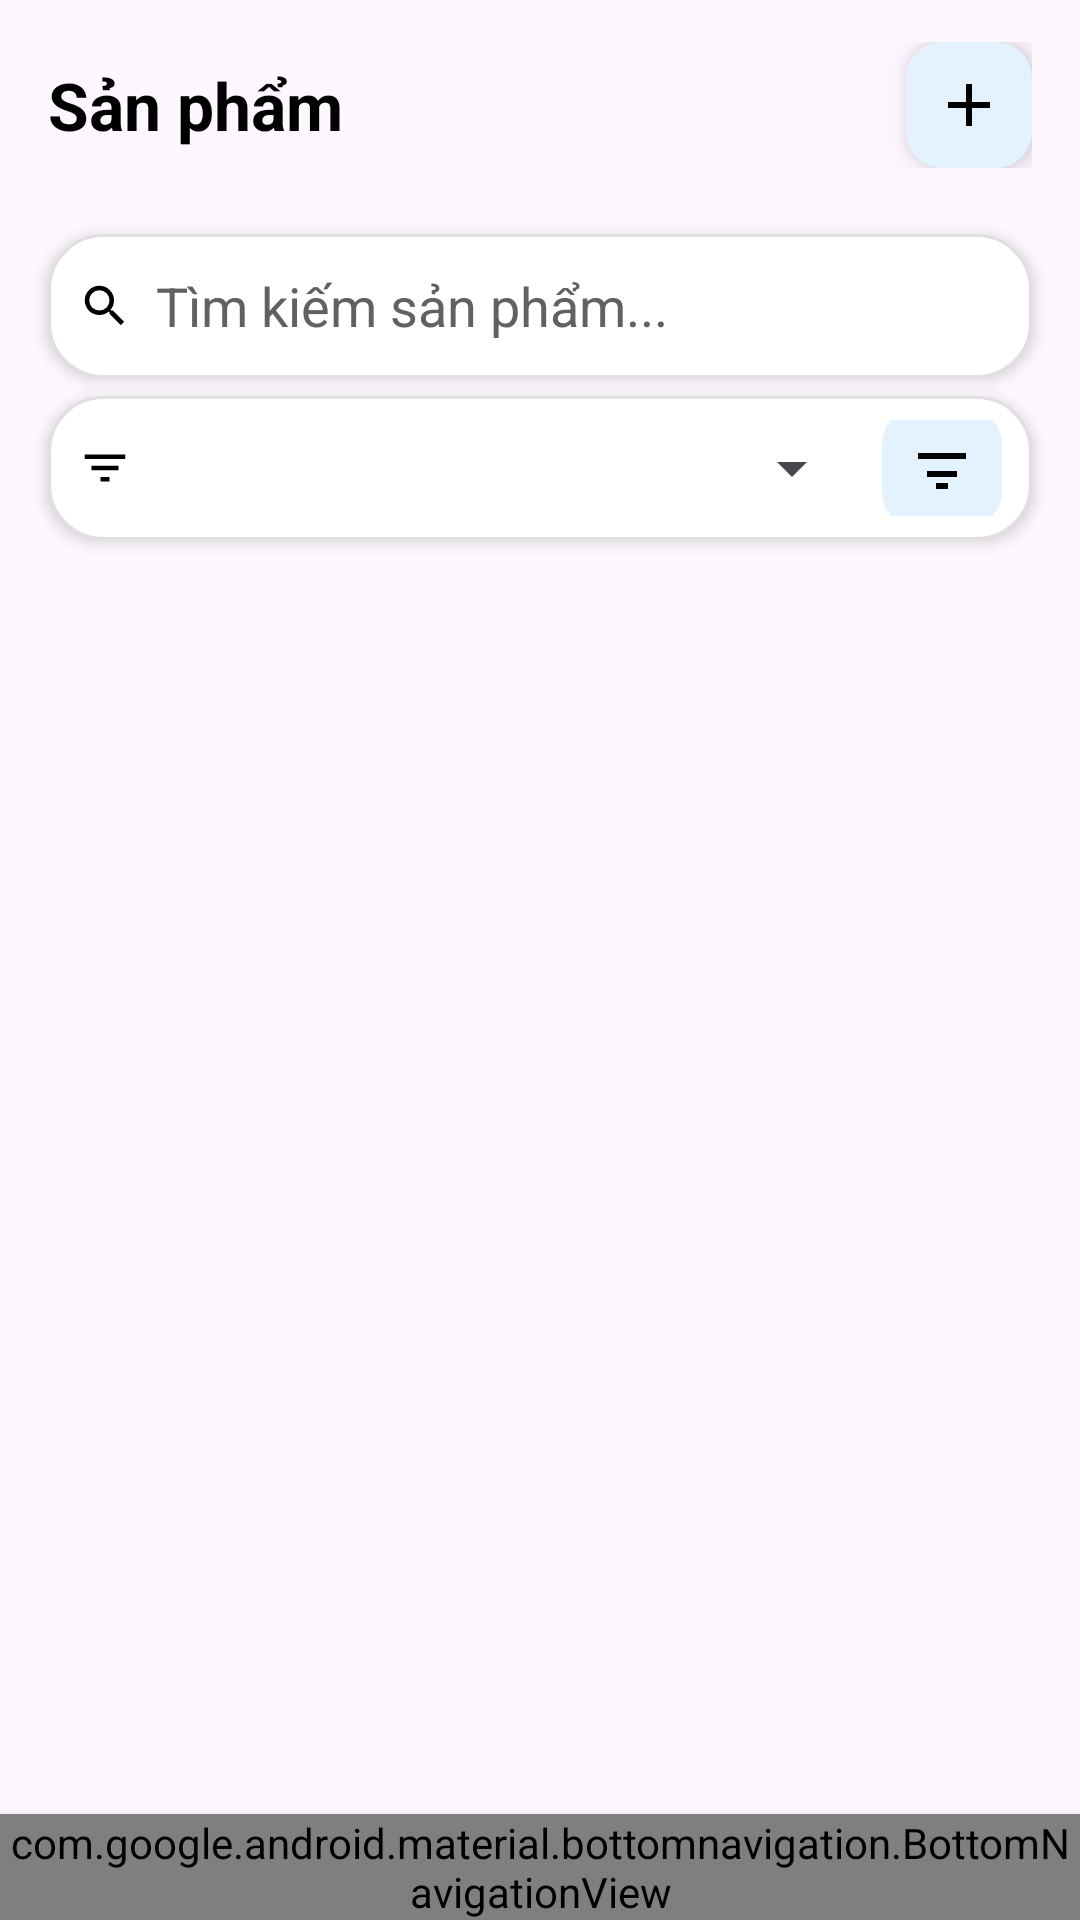

Named icons in this screenshot (1080 × 1920) and their centers, point (x, y):
Bộ lọc nâng cao: point (942, 468)
filter: point (105, 468)
search: point (104, 305)
